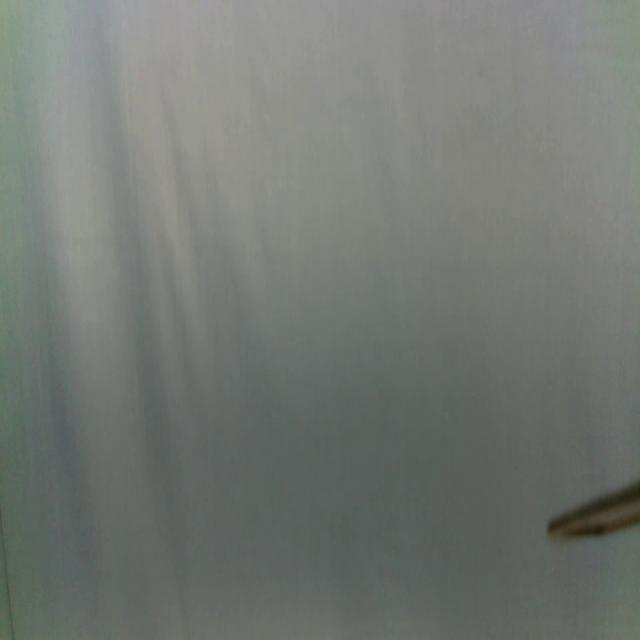crease: (0, 509, 16, 640)
